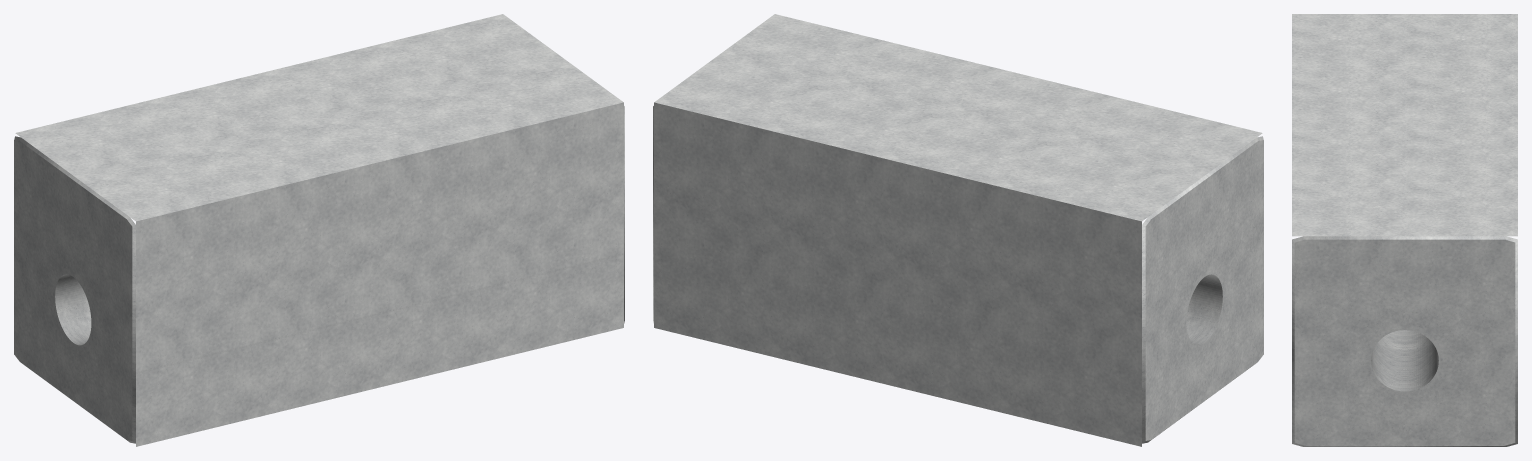
Rendered from cement-block-single-round-through-hole.glb.
3 views of the same model, side by side, from view 1: azimuth 30°, elevation 25°; view 2: azimuth 150°, elevation 25°; view 3: azimuth 270°, elevation 25° (orthographic). The views are drawn at different scales.
Visible parts, largest first — view 1: cement-block-single-round-through-hole; view 2: cement-block-single-round-through-hole; view 3: cement-block-single-round-through-hole.
Boxes of the visible parts, x1,y1,x2,y2 form: cement-block-single-round-through-hole: (14,14,624,446); cement-block-single-round-through-hole: (653,14,1263,446); cement-block-single-round-through-hole: (1292,14,1517,446).
Size of the model in its own units: 0.4 by 0.175 by 0.17.
Materials: 1 (1 with a texture image).
